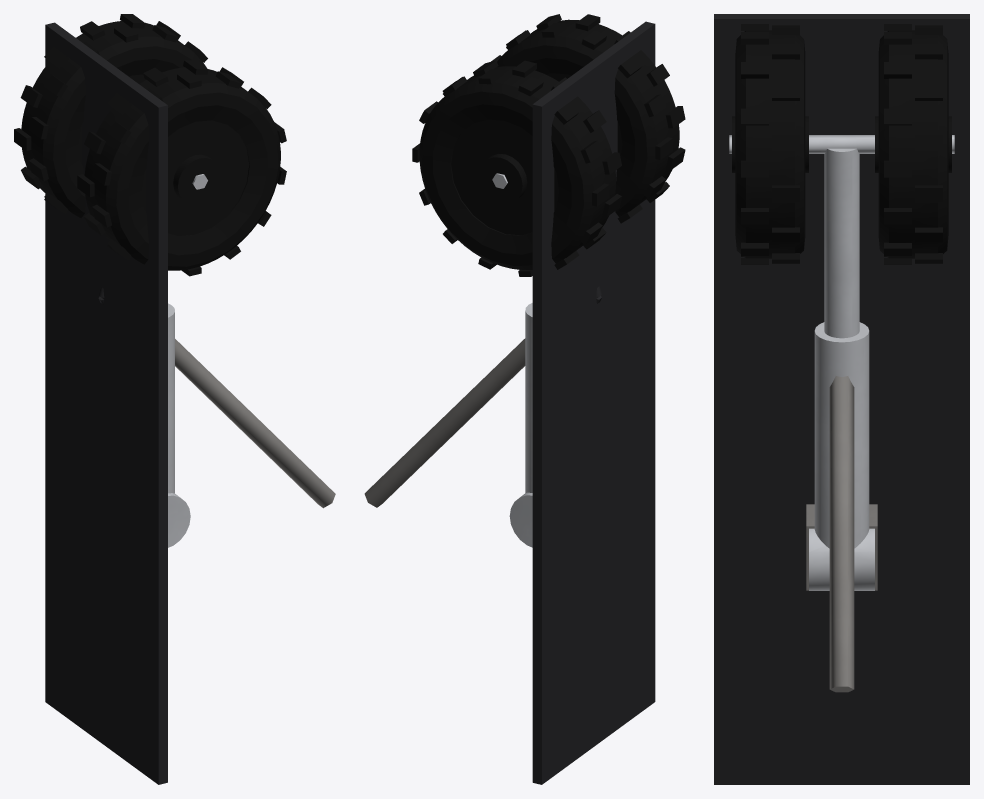
The model's file is jet10_landing_gear_m.glb.
The picture shows the model from 3 angles, left to right: view 1: azimuth 30°, elevation 25°; view 2: azimuth 150°, elevation 25°; view 3: azimuth 270°, elevation 25°; orthographic projection. The views are drawn at different scales.
Parts seen in each view (by area): view 1: mount_plate, wheel_1, wheel_2, drag_brace, oleo_strut; view 2: mount_plate, wheel_2, wheel_1, drag_brace, oleo_strut; view 3: mount_plate, wheel_1, wheel_2, oleo_strut, drag_brace, axle, trunnion.
Boxes of the visible parts, bbox=[...] form: mount_plate: bbox=[45, 22, 167, 784]; wheel_1: bbox=[77, 60, 286, 276]; wheel_2: bbox=[14, 14, 207, 217]; drag_brace: bbox=[175, 339, 335, 508]; oleo_strut: bbox=[168, 303, 190, 547]; mount_plate: bbox=[532, 21, 655, 784]; wheel_2: bbox=[412, 60, 621, 276]; wheel_1: bbox=[491, 14, 685, 223]; drag_brace: bbox=[364, 338, 525, 507]; oleo_strut: bbox=[509, 303, 532, 547]; mount_plate: bbox=[714, 14, 969, 784]; wheel_1: bbox=[732, 24, 808, 264]; wheel_2: bbox=[875, 24, 951, 264]; oleo_strut: bbox=[809, 148, 874, 590]; drag_brace: bbox=[829, 376, 854, 692]; axle: bbox=[729, 135, 954, 153]; trunnion: bbox=[806, 504, 877, 590].
Size of the model in its own units: 1.18 by 2.8 by 0.84.
Materials: 4 (2 with a texture image).
